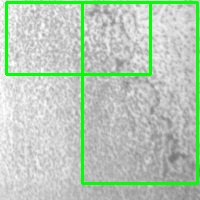pitted_surface: (82, 2, 197, 183), (6, 2, 150, 74)
